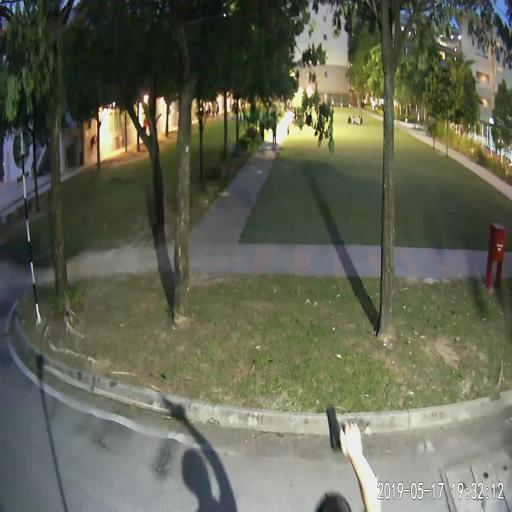Handgun: (324, 403, 360, 451)
